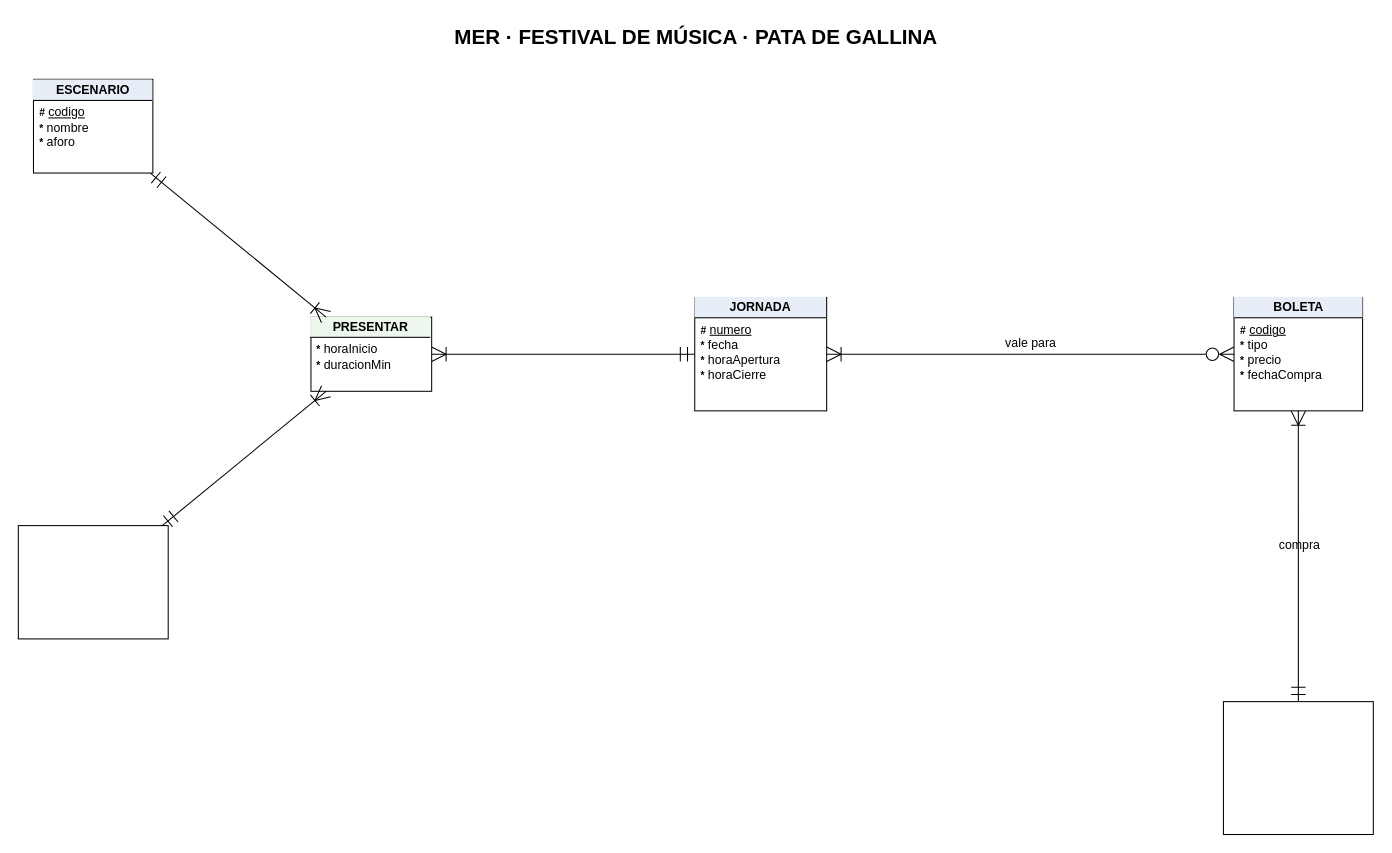
Some shapes in this 1392 by 853 pixel diagram are drawn without their labels. Each missing label, with the box of its shape:
ARTISTA # idArtista * nombreArtistico * pais { } genero: (17, 525, 168, 639)
ASISTENTE # documento * nombre * correo * fechaNacimiento / edad: (1222, 701, 1373, 835)
